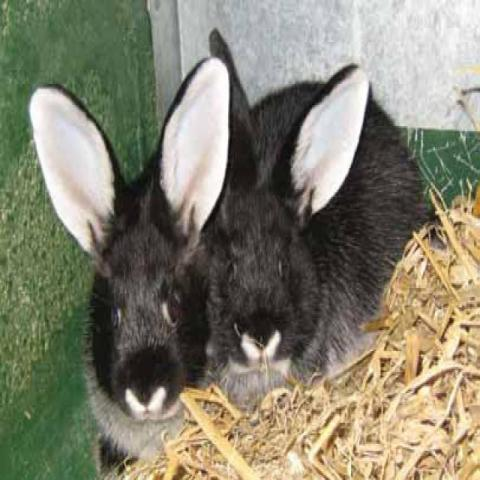small_animal: (206, 28, 454, 424), (29, 46, 234, 477)
